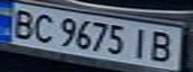5: (106, 23, 130, 57)
6: (72, 18, 93, 52)
7: (90, 20, 109, 54)
9: (54, 16, 78, 48)
B: (145, 28, 181, 64), (6, 7, 39, 39)
C: (27, 11, 57, 44)
I: (127, 25, 154, 60)
